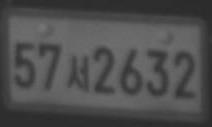2: (174, 51, 195, 100), (93, 47, 114, 94)
3: (144, 49, 169, 96)
5: (14, 42, 36, 89)
6: (119, 49, 144, 95)
7: (38, 43, 61, 89)
서: (66, 55, 90, 92)
